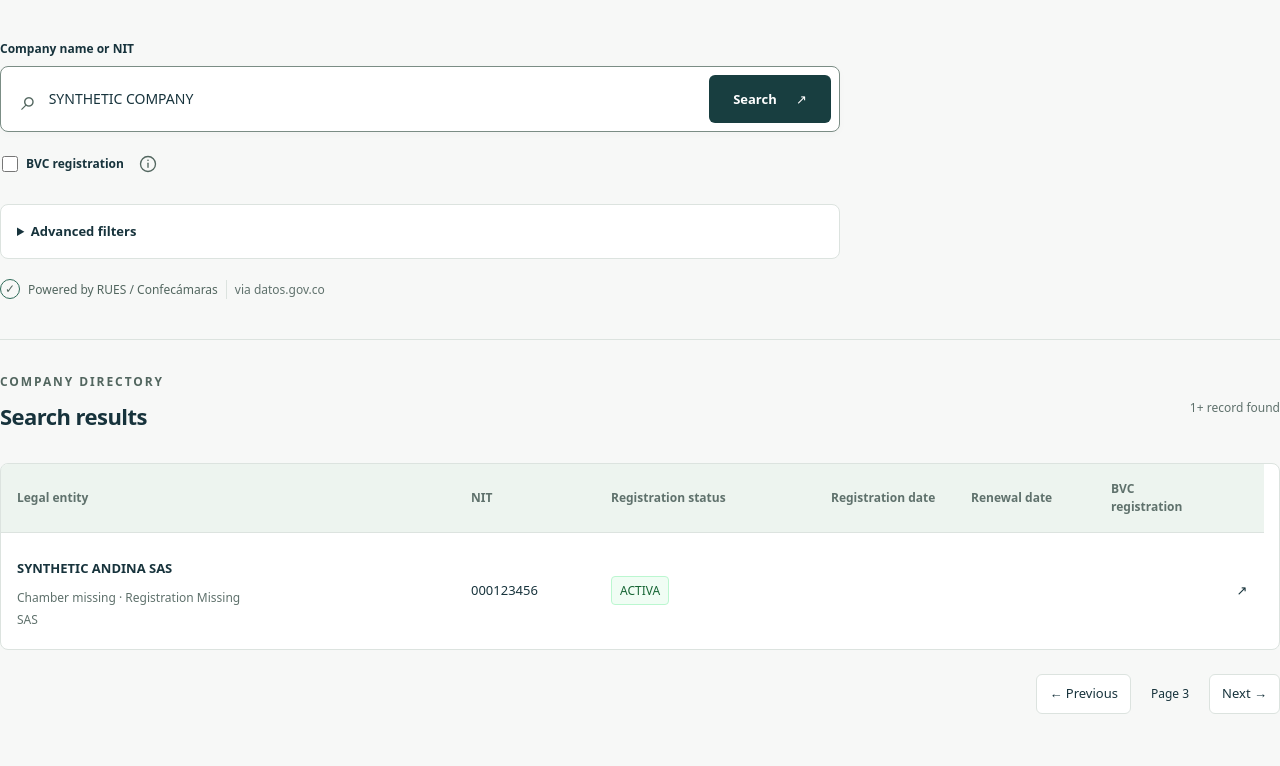
Scenario: restores the cached search page after navigating profile tabs via the arrow link
The image size is (1280, 766).
Expected: the table is shown, top-left (1, 464), bottom-right (1264, 649)
Click the link named "View SYNTHETIC ANDINA SAS" at (1242, 590), box top-left (1236, 581), bottom-right (1247, 599)
(page scrolled)
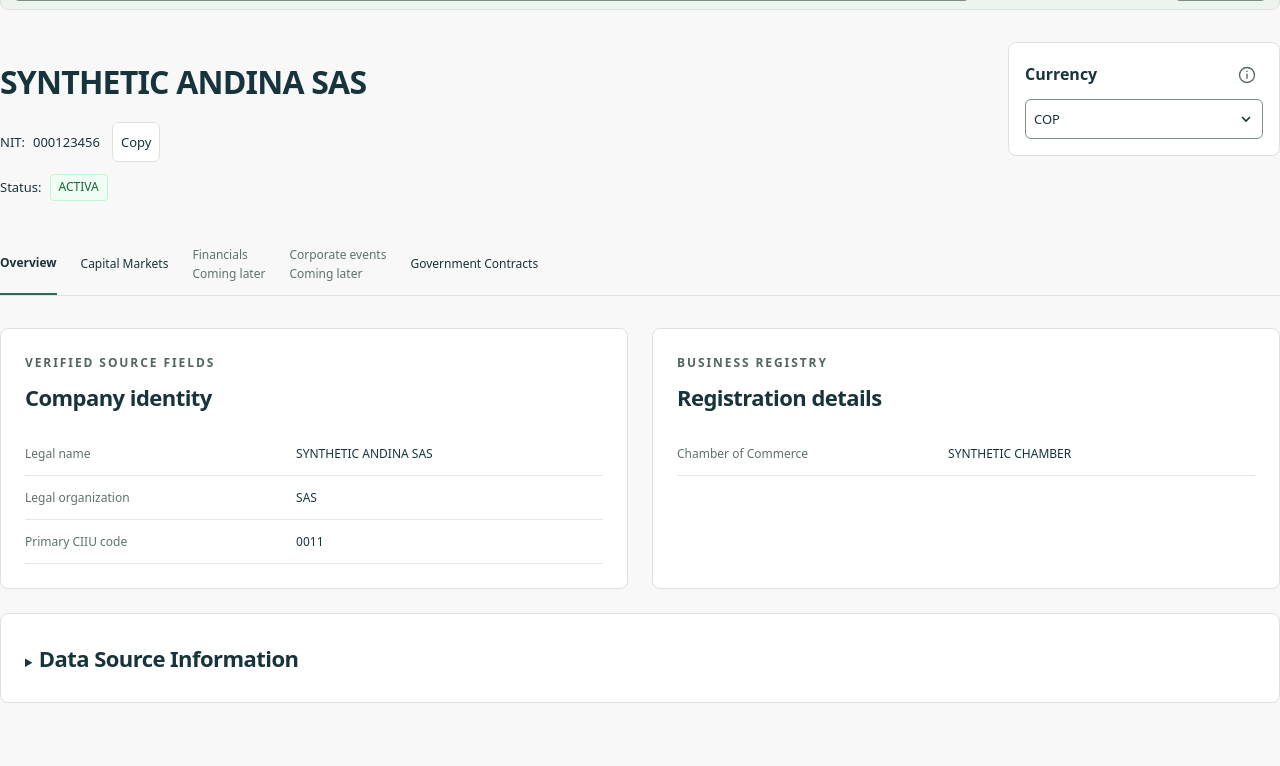
Expected: the heading "SYNTHETIC ANDINA SAS" is shown, top-left (0, 62), bottom-right (366, 102)
Click the heading "Data Source Information" at (169, 658), box top-left (39, 642), bottom-right (298, 672)
(page scrolled)
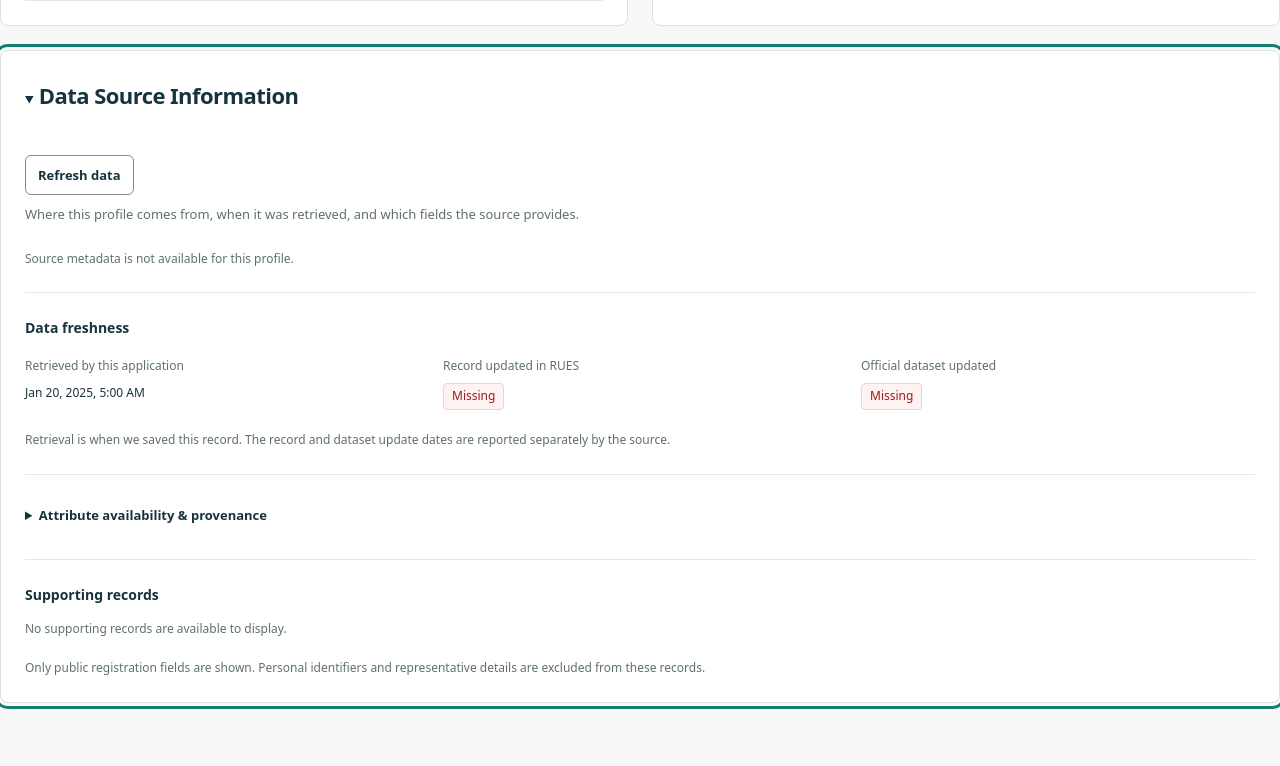
Click the heading "Attribute availability & provenance" at (153, 515), box top-left (39, 506), bottom-right (267, 524)
(page scrolled)
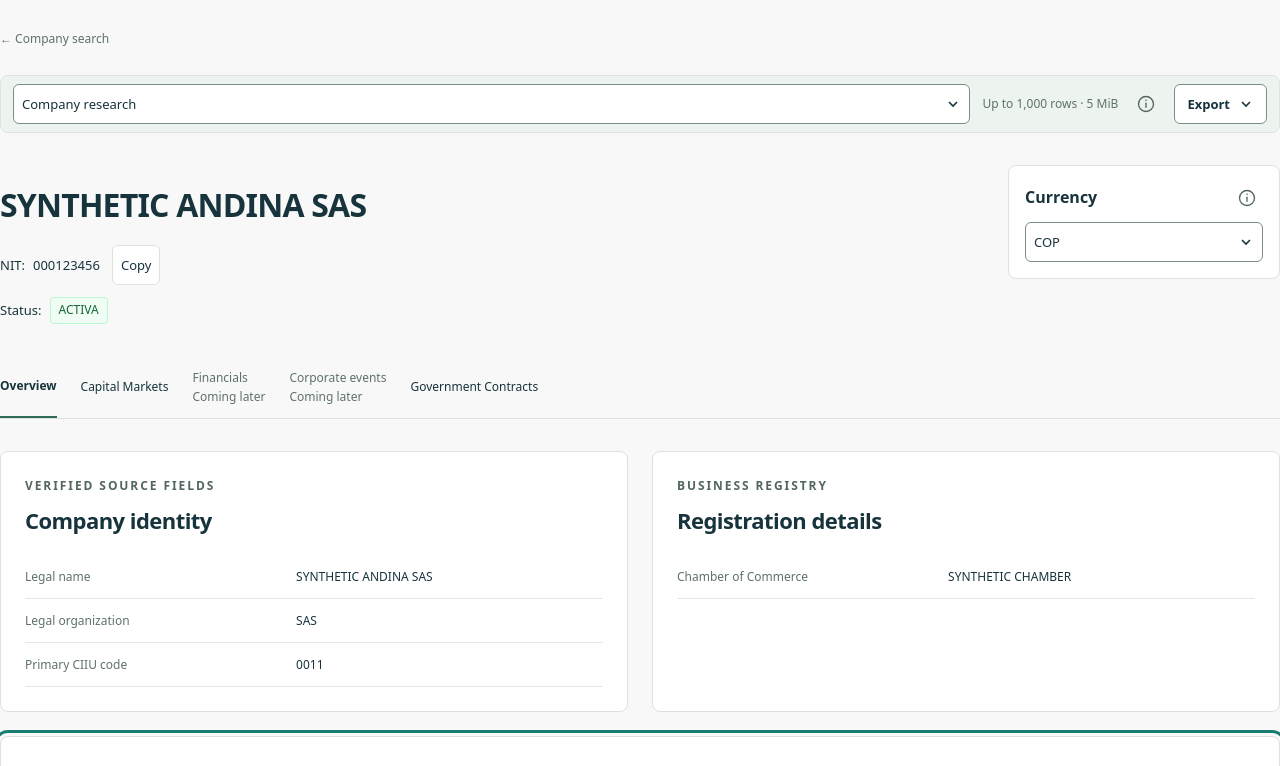
Click the link "Overview" at (28, 387), box top-left (0, 356), bottom-right (56, 418)
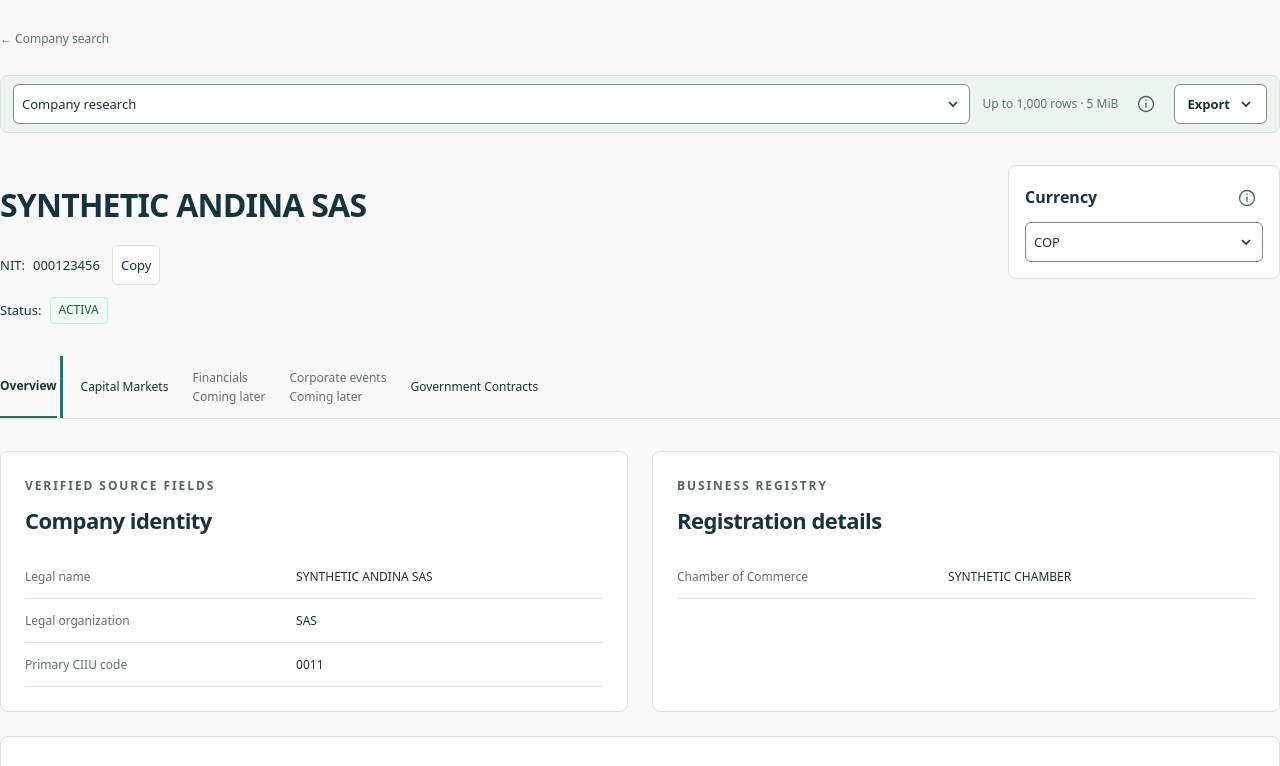
Click the link "← Company search" at (55, 39), box top-left (0, 30), bottom-right (109, 47)
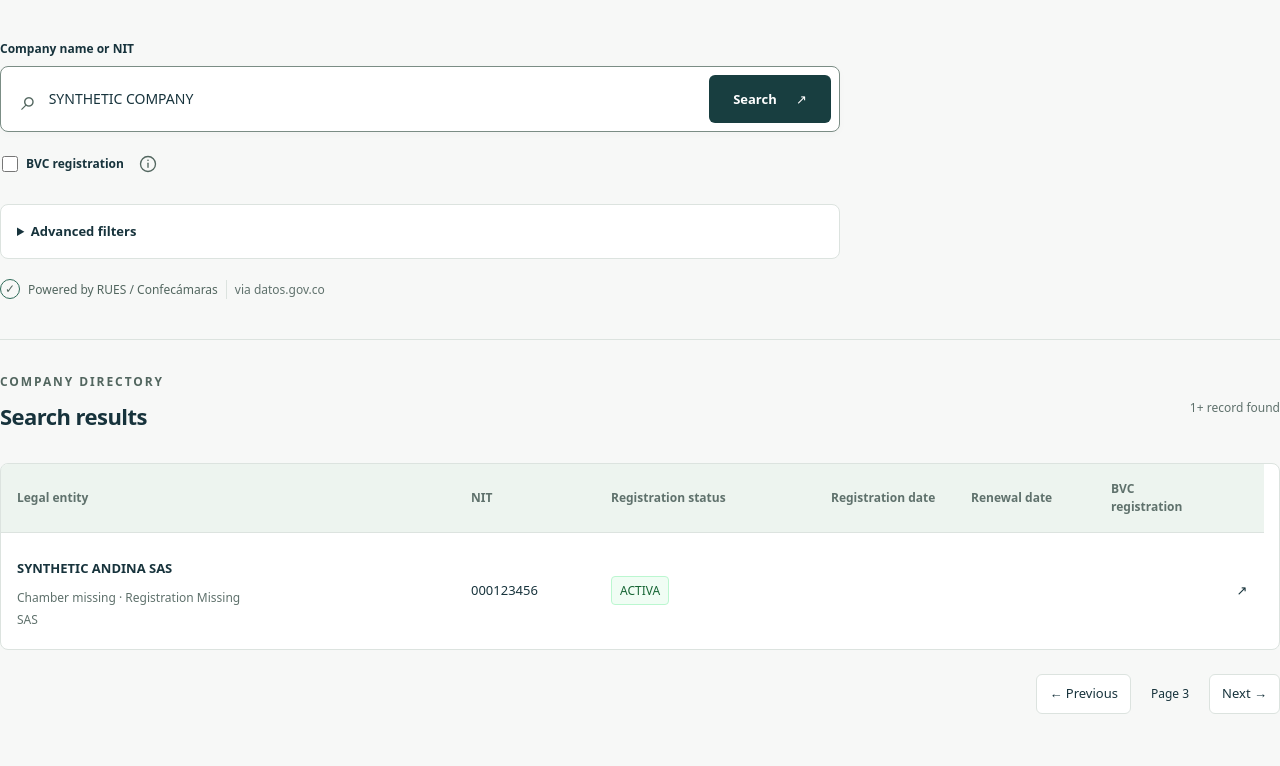
Expected: the table is shown, top-left (1, 464), bottom-right (1264, 649)
Expected: the search field labelled "Company name or NIT" holds "SYNTHETIC COMPANY", top-left (49, 76), bottom-right (709, 122)
Expected: the text "Page 3" is shown, top-left (1151, 684), bottom-right (1189, 703)
Click the button "Search ↗" at (770, 99), box top-left (709, 75), bottom-right (831, 124)
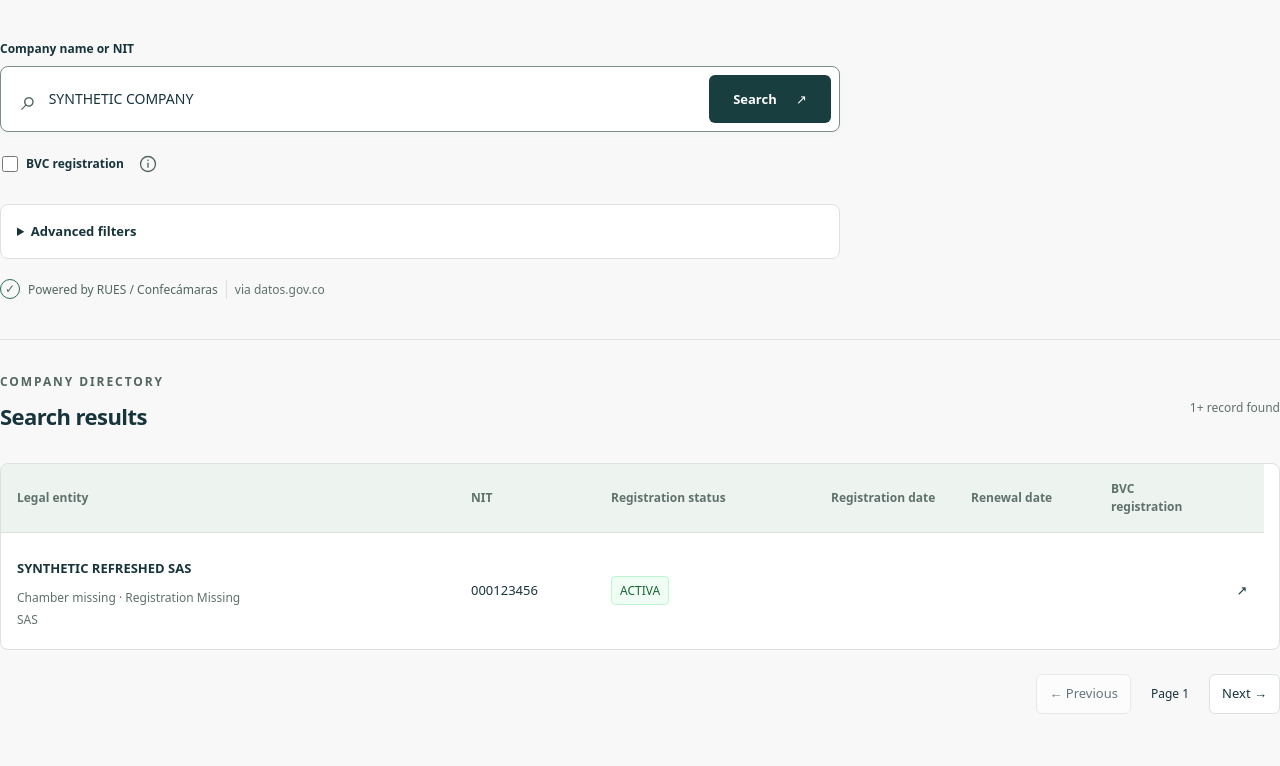
Expected: the link "SYNTHETIC REFRESHED SAS" is shown, top-left (17, 559), bottom-right (191, 577)
